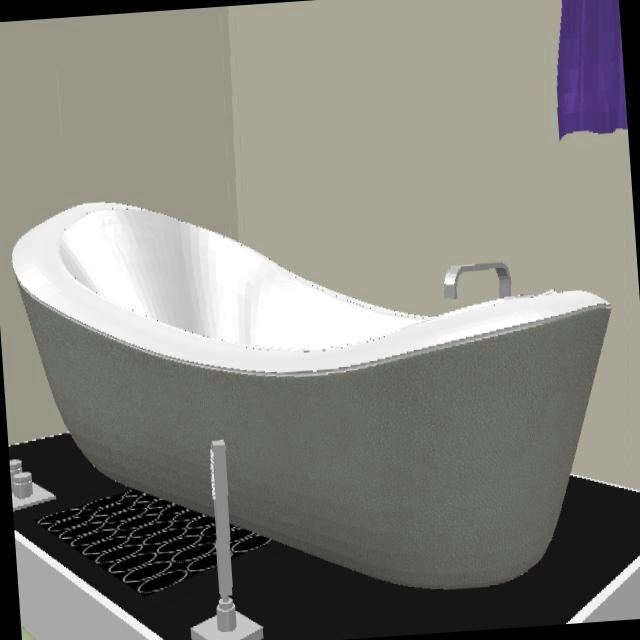bathtube: (10, 204, 612, 594)
